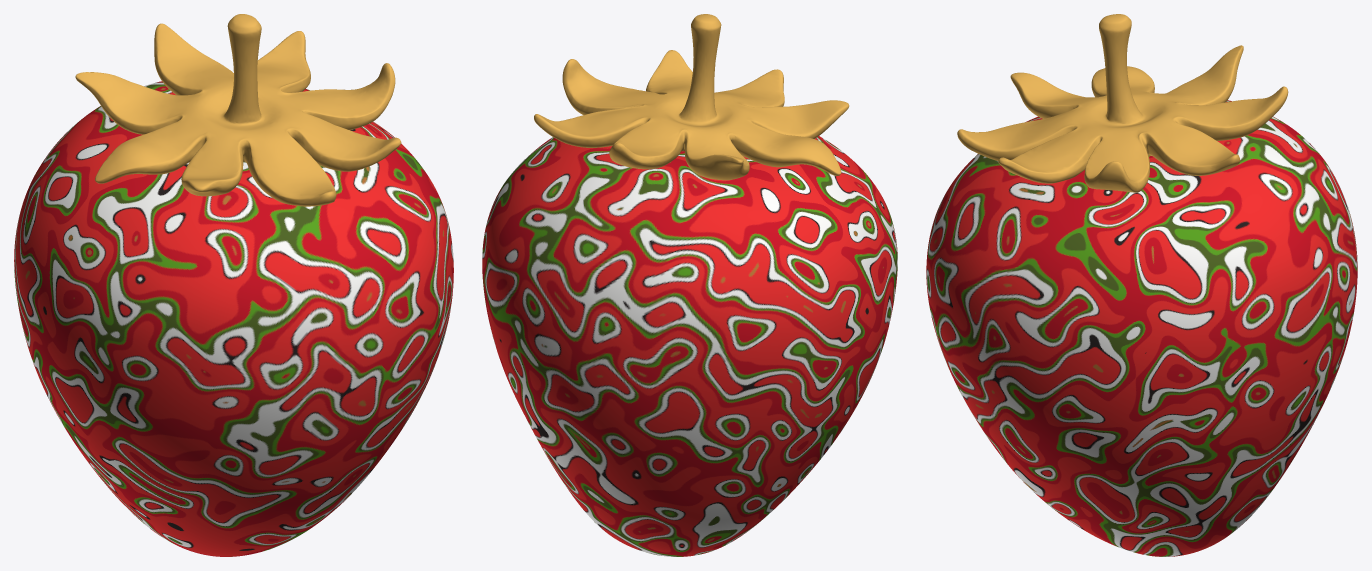
Rendered from strawberry.glb.
3 views of the same model, side by side, from view 1: azimuth 30°, elevation 25°; view 2: azimuth 150°, elevation 25°; view 3: azimuth 270°, elevation 25° (orthographic). The views are drawn at different scales.
Visible parts, largest first — view 1: strawberry_Body1, strawberry_Accent0; view 2: strawberry_Body1, strawberry_Accent0; view 3: strawberry_Body1, strawberry_Accent0.
Boxes of the visible parts, x1,y1,x2,y2 form: strawberry_Body1: (14,81,453,556); strawberry_Accent0: (75,14,401,206); strawberry_Body1: (482,136,897,556); strawberry_Accent0: (534,14,849,180); strawberry_Body1: (926,100,1357,556); strawberry_Accent0: (957,14,1288,192).
Bounding box in the file's own units: 1.3 × 1.8 × 1.33.
Materials: 2 (1 with a texture image).
